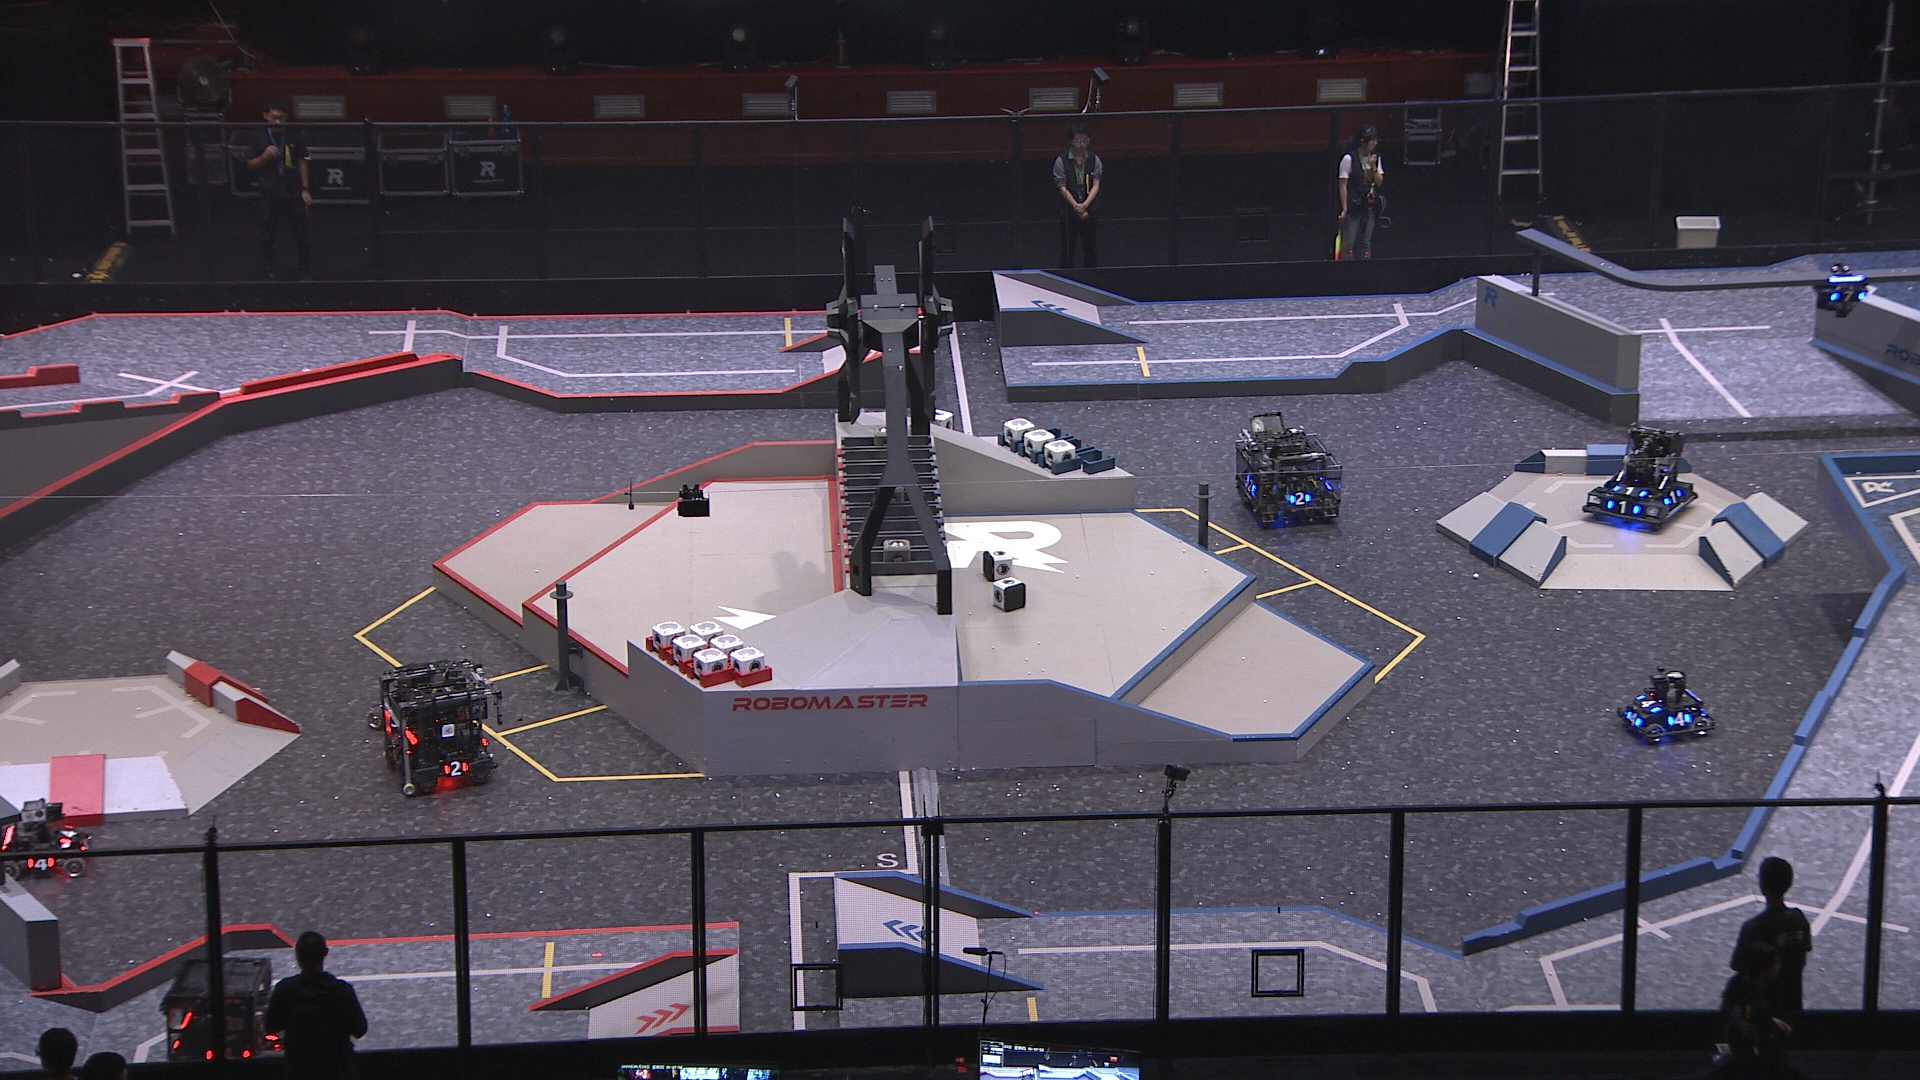armor: (204, 1046, 252, 1063), (1604, 496, 1640, 517), (442, 760, 469, 779), (24, 856, 57, 872), (1286, 491, 1313, 509), (1830, 291, 1869, 305), (1636, 694, 1662, 713), (1611, 485, 1648, 498), (1665, 712, 1692, 728), (1662, 489, 1684, 506), (57, 825, 76, 844), (1625, 712, 1644, 731), (1244, 477, 1259, 496)
car: (161, 955, 309, 1080), (376, 659, 506, 796), (1232, 413, 1342, 527), (1581, 422, 1698, 529), (1617, 666, 1713, 746)
watcher: (1811, 261, 1875, 318)
